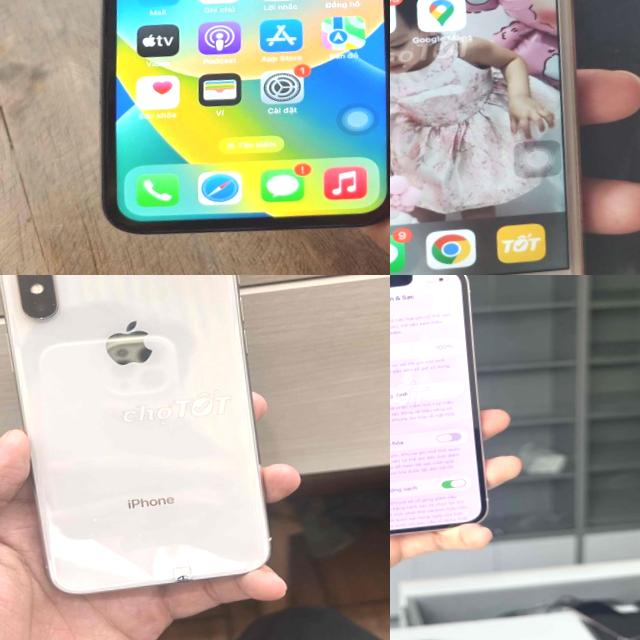gen_12_13: (390, 275, 493, 549)
gen_6: (390, 0, 584, 275)
gen_x_xs: (57, 0, 390, 261), (0, 275, 268, 594)
scratch: (32, 313, 49, 324)
